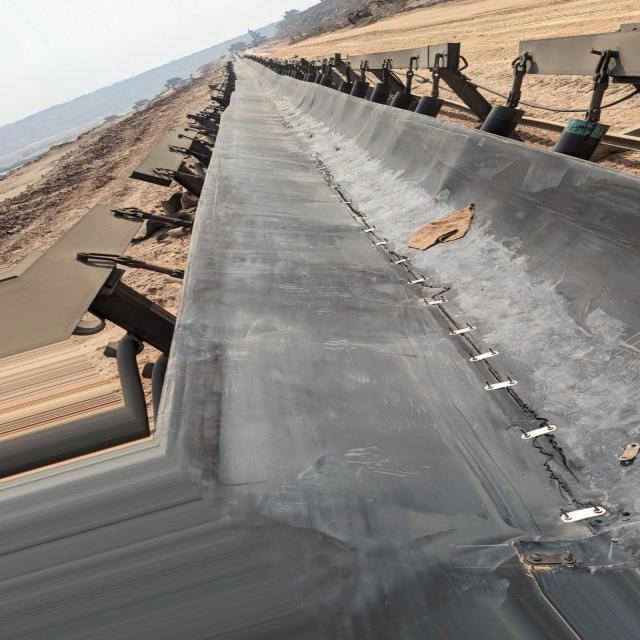Other Objects: (406, 204, 475, 250)
Roller: (319, 72, 612, 159)
patch work: (306, 171, 627, 535), (515, 521, 640, 575)
